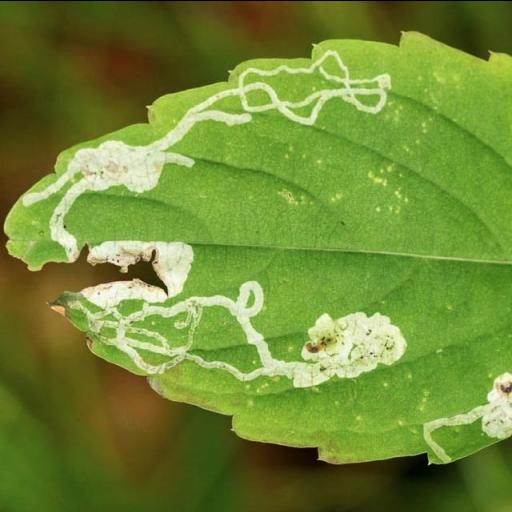Leaf Miner: (0, 28, 512, 462)
